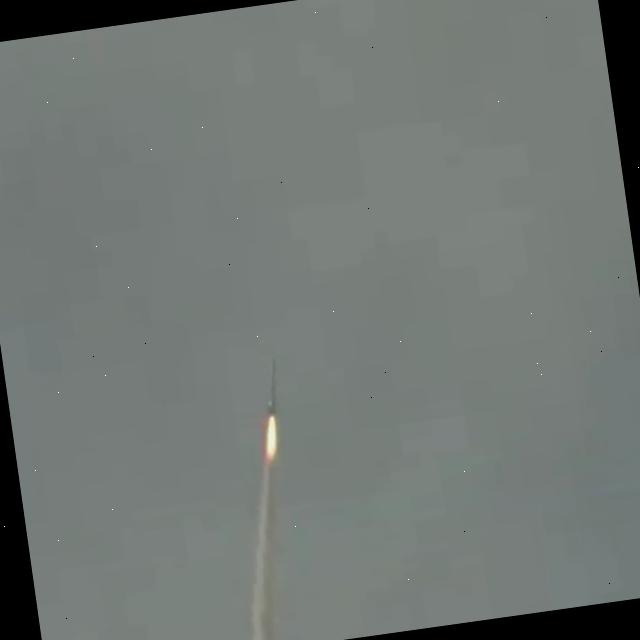smoke_trail_with_rocket: (249, 364, 280, 640)
